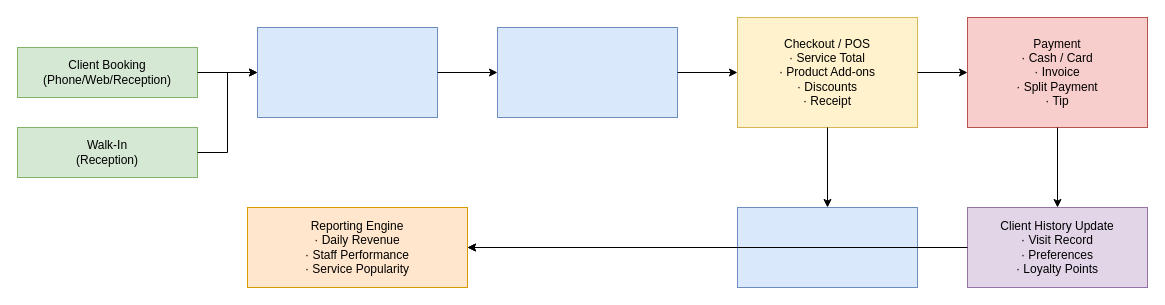
Some shapes in this 1165 by 305 pixel diagram are drawn without their labels. Here are the shapes that lost their labels. From the top down, the centre of each, then its label:
At point (347, 72): "Appointment System · Calendar · Staff Assignment · Reminders".
At point (587, 72): "Service Delivery · Service Selection · Client Notes · Duration Tracking".
At point (827, 247): "Inventory Check · Stock Deduction · Low-Stock Alert".
